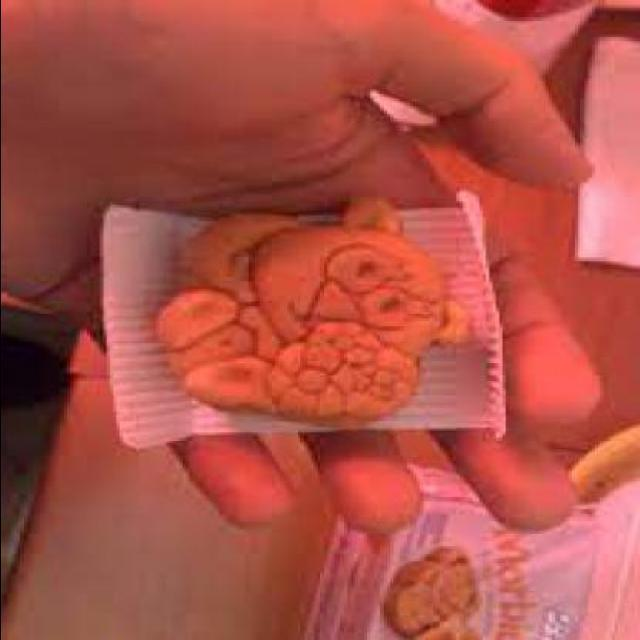Merendine packaged: (138, 192, 472, 428)
